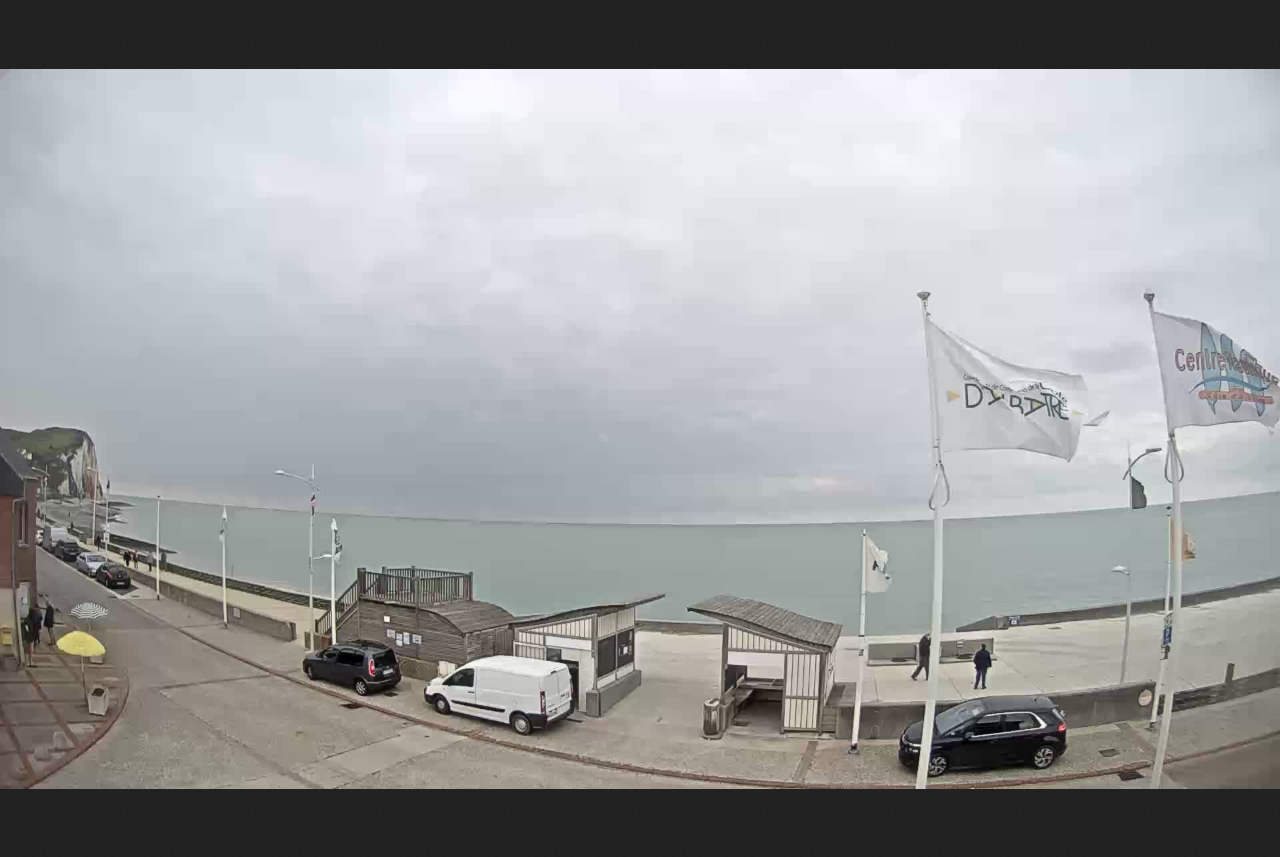maybe: (326, 516, 345, 569)
no: (212, 502, 232, 548)
yes: (919, 309, 1095, 469), (1140, 301, 1280, 449), (855, 532, 888, 600), (1126, 472, 1152, 516)
